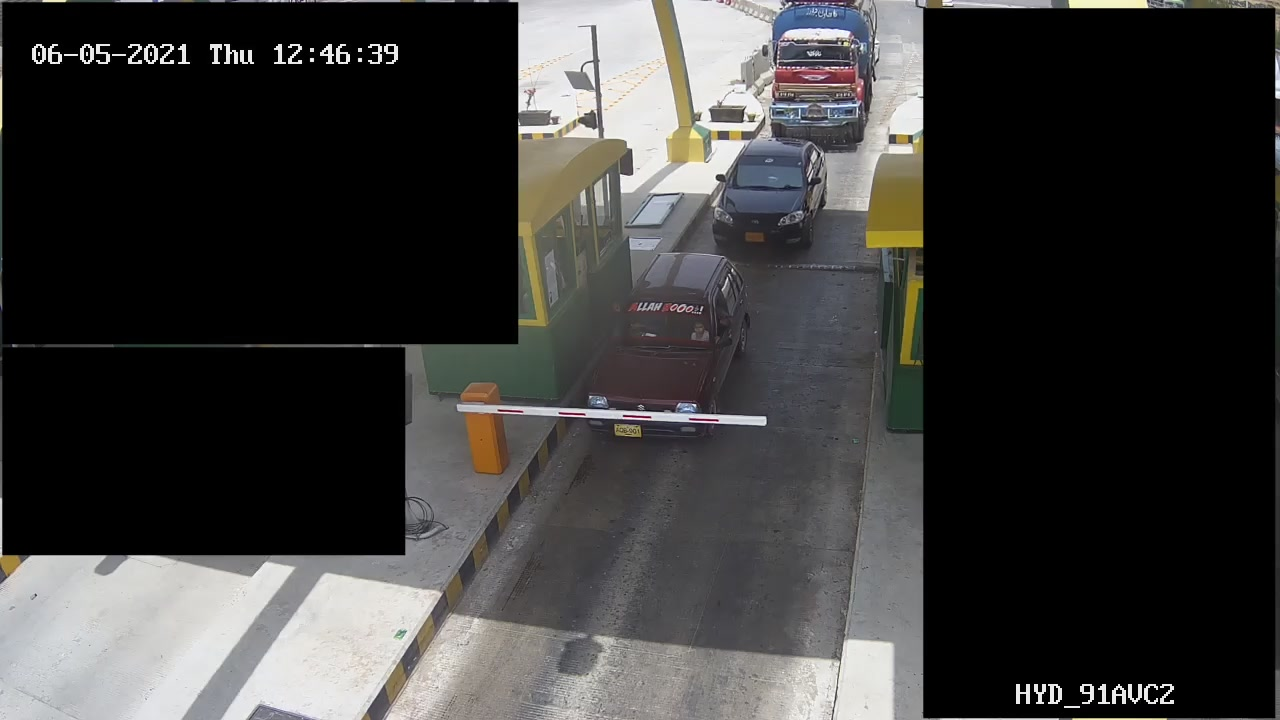F1: (578, 242, 746, 442), (707, 140, 828, 259)
F5: (763, 2, 882, 150)
